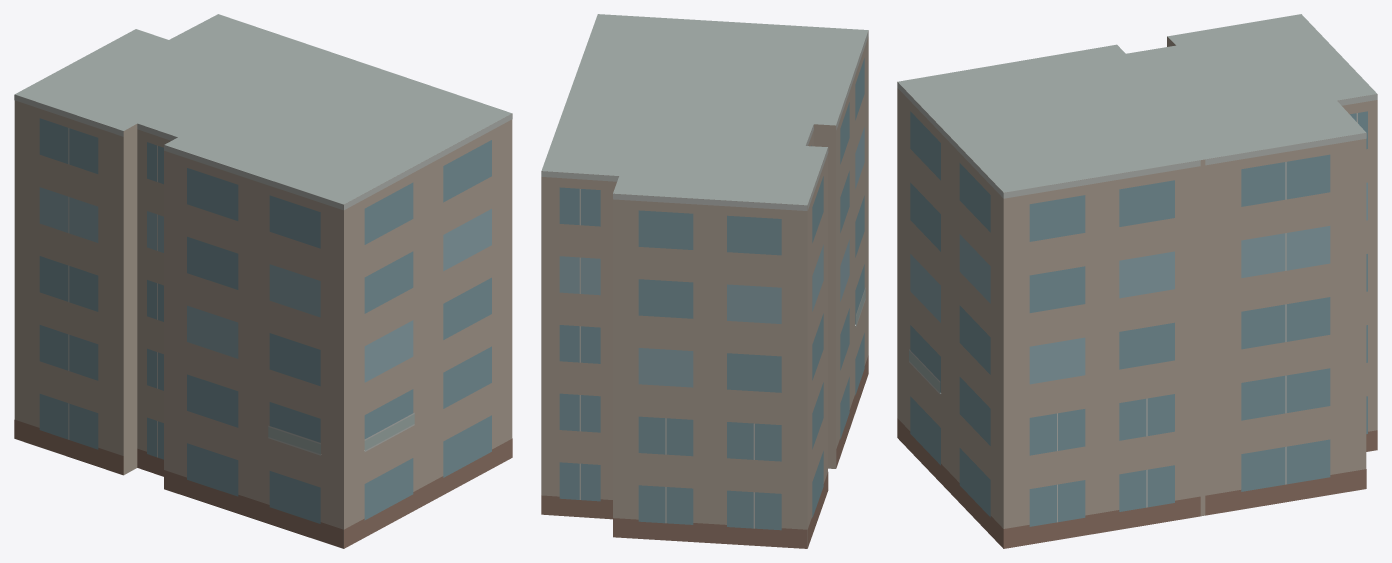
The model's file is survey-upis-32752161.glb.
The picture shows the model from 3 angles, left to right: view 1: azimuth 30°, elevation 25°; view 2: azimuth 150°, elevation 25°; view 3: azimuth 270°, elevation 25°; orthographic projection. The views are drawn at different scales.
Parts seen in each view (by area): view 1: survey-upis-32752161.tmp; view 2: survey-upis-32752161.tmp; view 3: survey-upis-32752161.tmp.
Part boxes in pixels (x1=…): survey-upis-32752161.tmp: x1=14, y1=14, x2=512, y2=548; survey-upis-32752161.tmp: x1=541, y1=14, x2=868, y2=548; survey-upis-32752161.tmp: x1=897, y1=14, x2=1377, y2=548.
Size of the model in its own units: 15.62 by 14.5 by 17.72.
